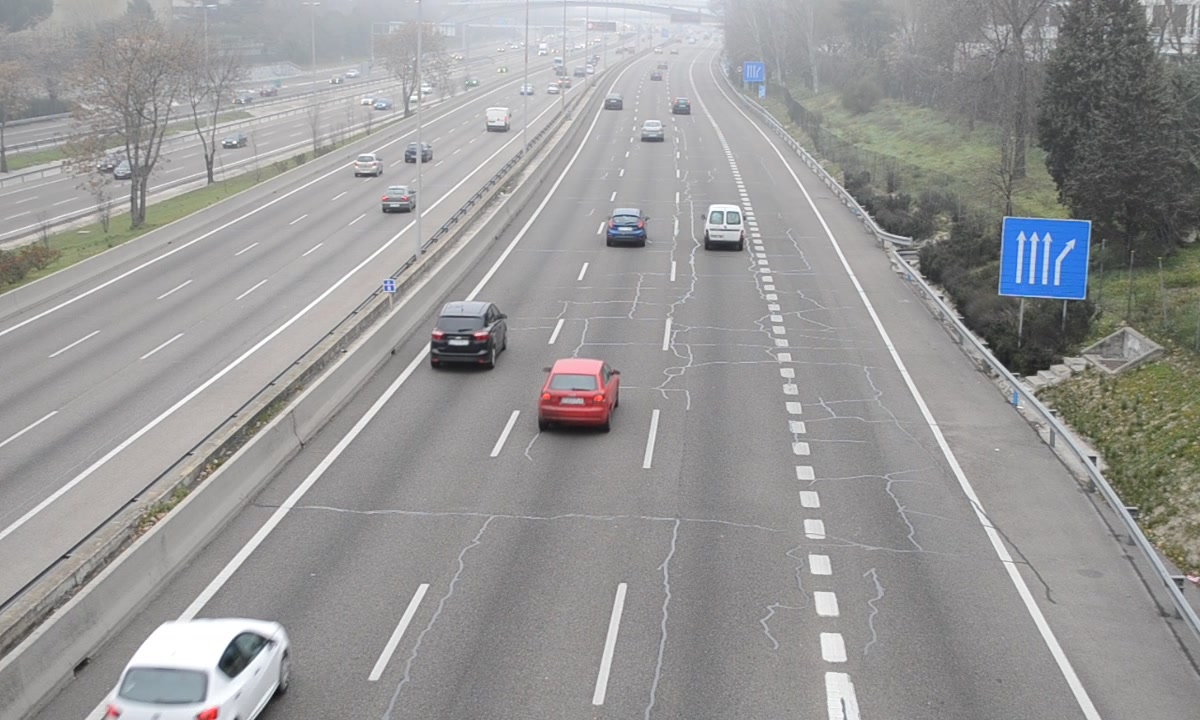car: (100, 620, 290, 720), (540, 360, 619, 429), (431, 303, 505, 371), (605, 209, 647, 248), (640, 119, 666, 144)
van: (704, 205, 746, 249)
